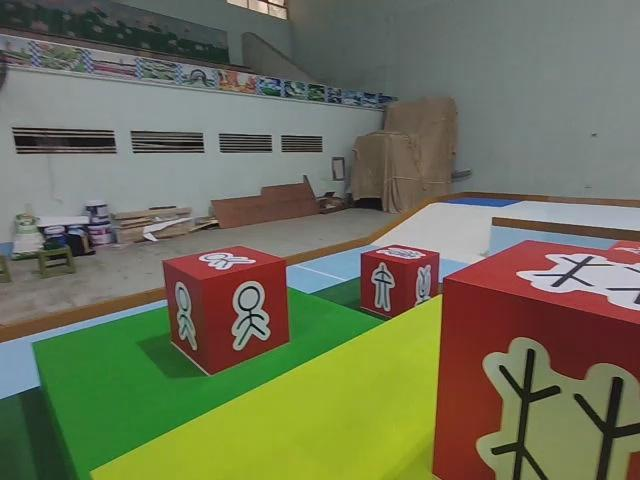R2 Fake: (359, 245, 441, 329)
R2 Real: (433, 241, 640, 480), (160, 245, 287, 373)
